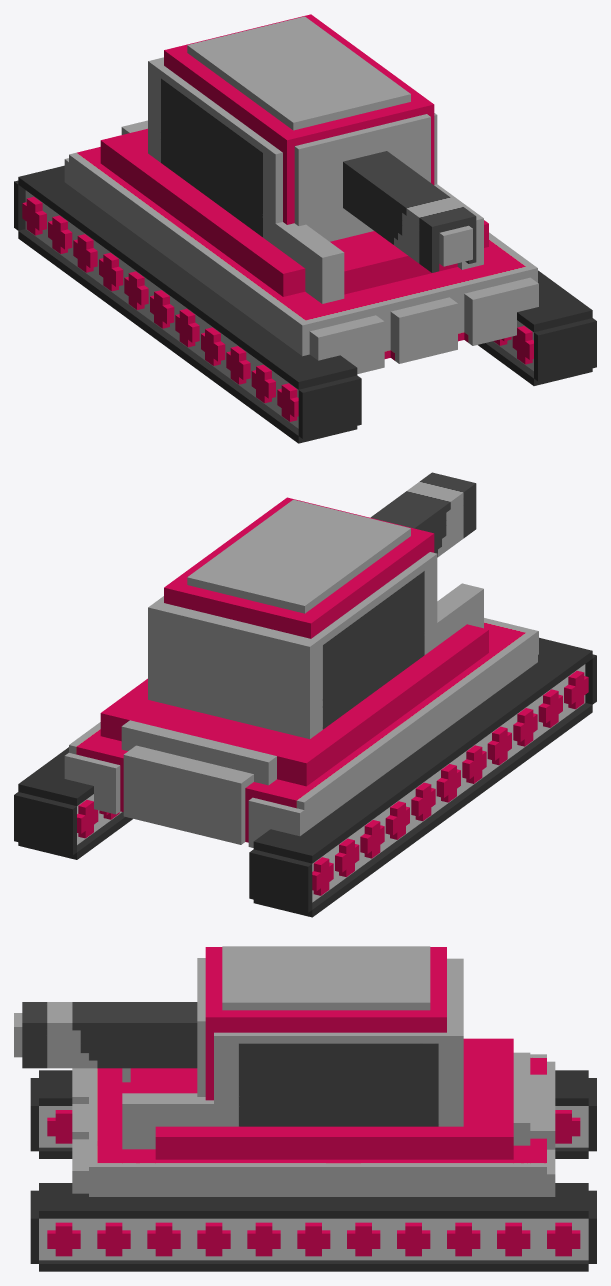
Rendered from Character_20.fbx.
3 views of the same model, one above another, from view 1: azimuth 30°, elevation 25°; view 2: azimuth 150°, elevation 25°; view 3: azimuth 270°, elevation 25° (orthographic).
Visible parts, largest first — view 1: Character_20; view 2: Character_20; view 3: Character_20.
Part boxes in pixels (x1,y1,x2,y2): Character_20: [14, 14, 596, 443]; Character_20: [14, 472, 596, 917]; Character_20: [14, 946, 596, 1271].
Size of the model in its own units: 40 by 30 by 70.
